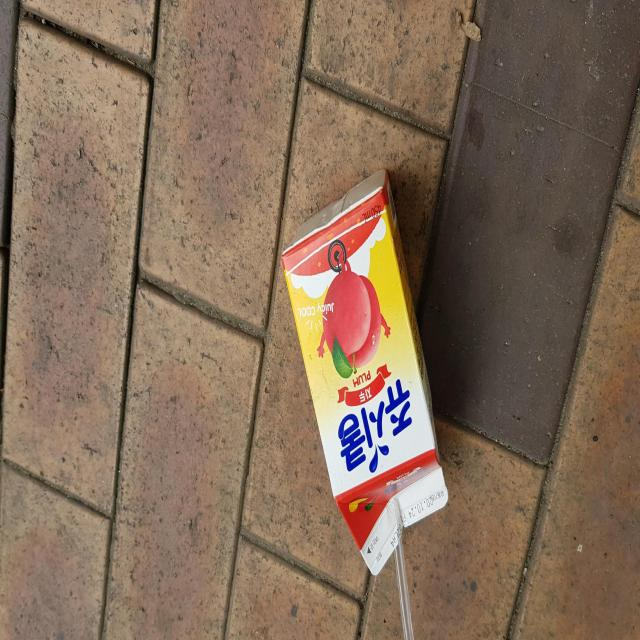paperpack: (282, 168, 449, 575)
